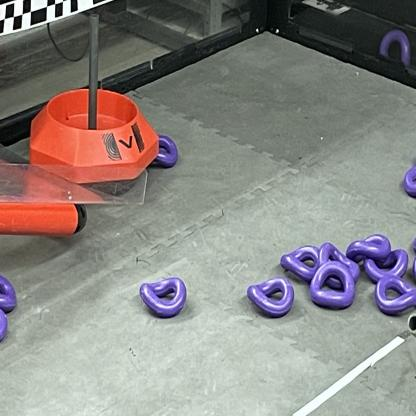ring: (310, 262, 356, 312), (140, 276, 186, 319), (247, 277, 294, 318), (318, 240, 360, 284), (280, 243, 324, 282), (375, 273, 415, 314), (362, 247, 410, 279), (144, 134, 179, 170), (344, 234, 392, 260), (0, 274, 18, 312), (403, 163, 415, 197), (0, 310, 8, 342)
